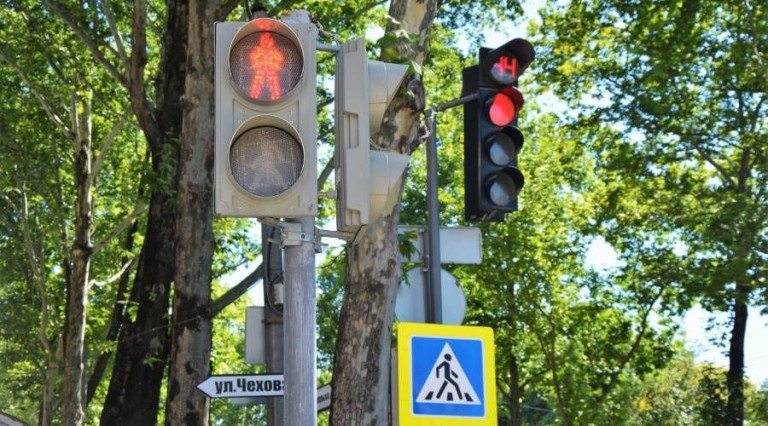tl: (217, 14, 316, 213), (342, 39, 404, 230), (464, 48, 530, 216)
